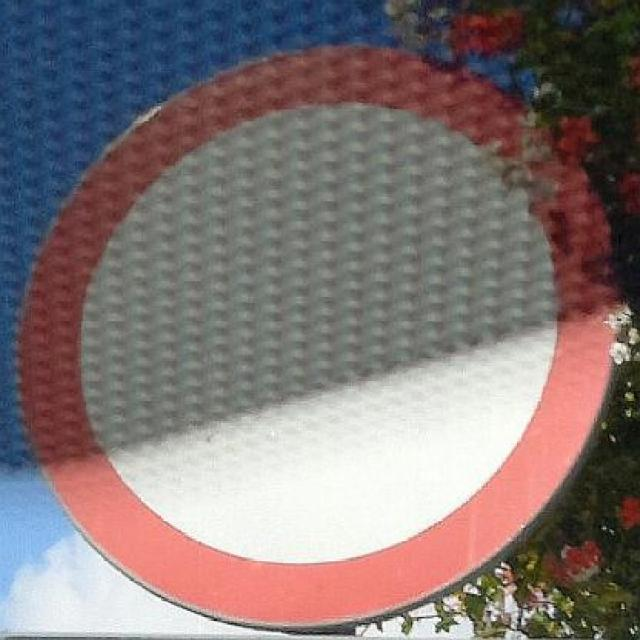Zakaz ruchu w obu kierunkach: (13, 40, 622, 631)
